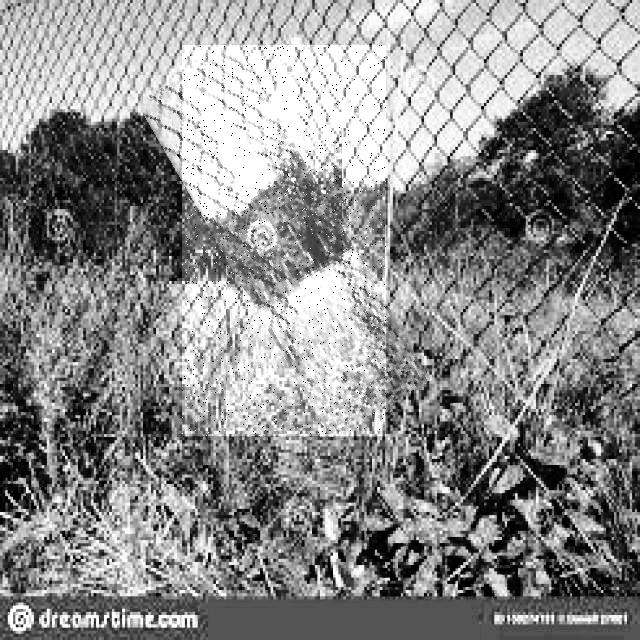anomaly-fence: (182, 45, 386, 436)
